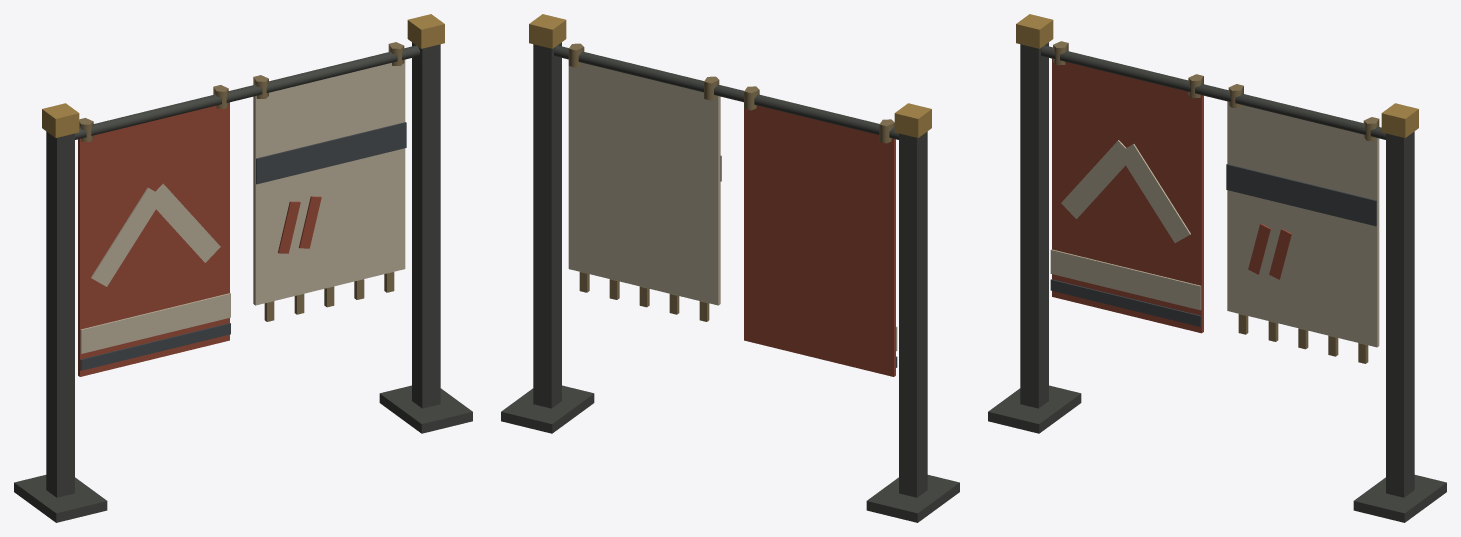
Rendered from goods_cloth.glb.
3 views of the same model, side by side, from view 1: azimuth 30°, elevation 25°; view 2: azimuth 150°, elevation 25°; view 3: azimuth 330°, elevation 25° (orthographic).
Visible parts, largest first — view 1: goods_cloth; view 2: goods_cloth; view 3: goods_cloth.
Part boxes in pixels (bbox=[...]): goods_cloth: bbox=[14, 14, 472, 522]; goods_cloth: bbox=[501, 14, 959, 522]; goods_cloth: bbox=[988, 14, 1446, 522].
Size of the model in its own units: 2.28 by 2.04 by 0.4.
